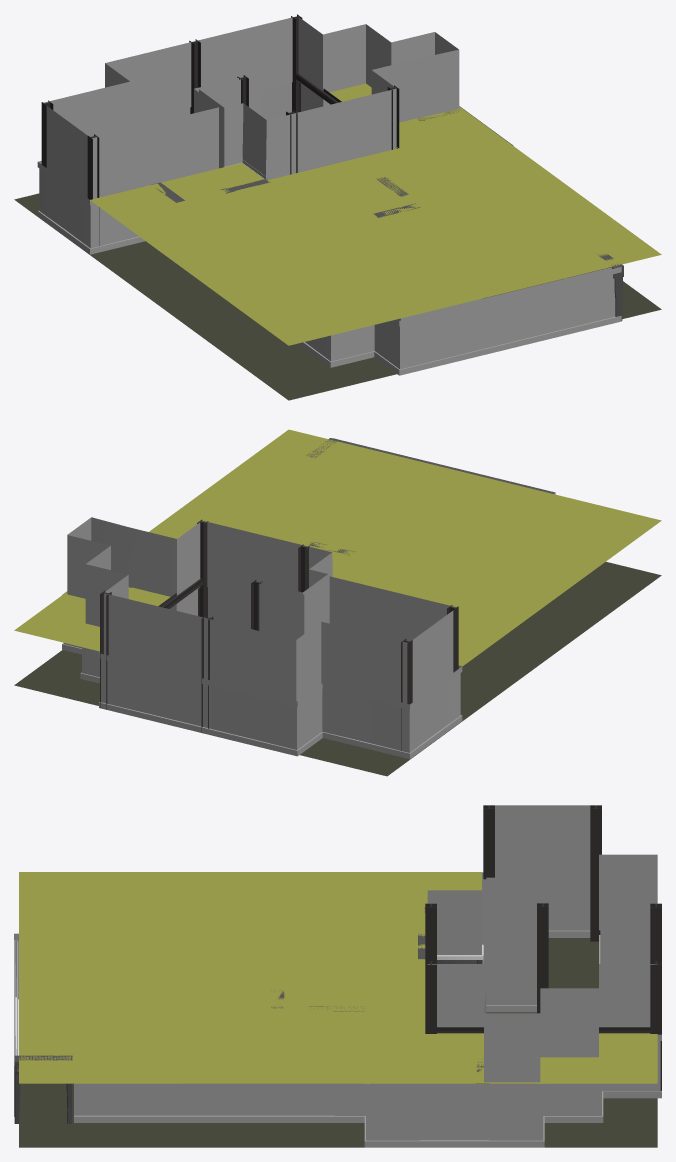
File: Nuclear_Level.fbx
3 renders of one model, top to bottom at view 1: azimuth 30°, elevation 25°; view 2: azimuth 150°, elevation 25°; view 3: azimuth 270°, elevation 25°, orthographic. The views are drawn at different scales.
Visible parts, largest first — view 1: Ceiling, Walls, Floor, Beam.004, Beam.006, Beam.001; view 2: Walls, Ceiling, Floor, Beam.003, Beam.004, Beam.007; view 3: Ceiling, Walls, Floor, Beam.007, Beam, Beam.004, Door_Frame_EXT.003, Beam.006, Beam.003, Beam.001, Beam.002, Beam.005.
Boxes of the visible parts, x1,y1,x2,y2 form: Ceiling: (90,83,661,345); Walls: (37,16,621,375); Floor: (14,193,661,400); Beam.004: (291,14,302,112); Beam.006: (87,134,99,245); Beam.001: (189,39,200,113); Walls: (62,438,555,759); Ceiling: (14,429,661,666); Floor: (14,562,661,776); Beam.003: (197,519,208,617); Beam.004: (100,590,111,709); Beam.007: (401,639,412,750); Ceiling: (19,872,657,1083); Walls: (14,805,661,1147); Floor: (19,938,657,1147); Beam.007: (590,805,601,941); Beam: (537,903,548,1013); Beam.004: (650,961,661,1090); Door_Frame_EXT.003: (14,1055,72,1123); Beam.006: (483,805,494,879); Beam.003: (425,961,436,1033); Beam.001: (650,903,661,961); Beam.002: (425,903,436,961); Beam.005: (437,1027,650,1033).
Bounding box in the file's own units: 6336 × 1850 × 8185.
